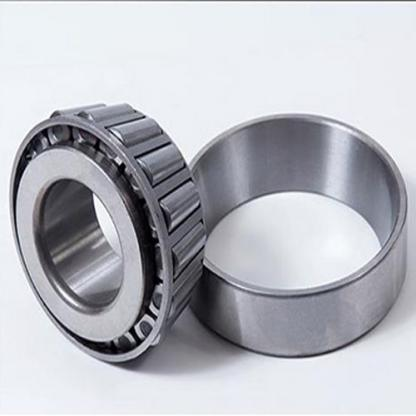FOD: (6, 95, 205, 367)
